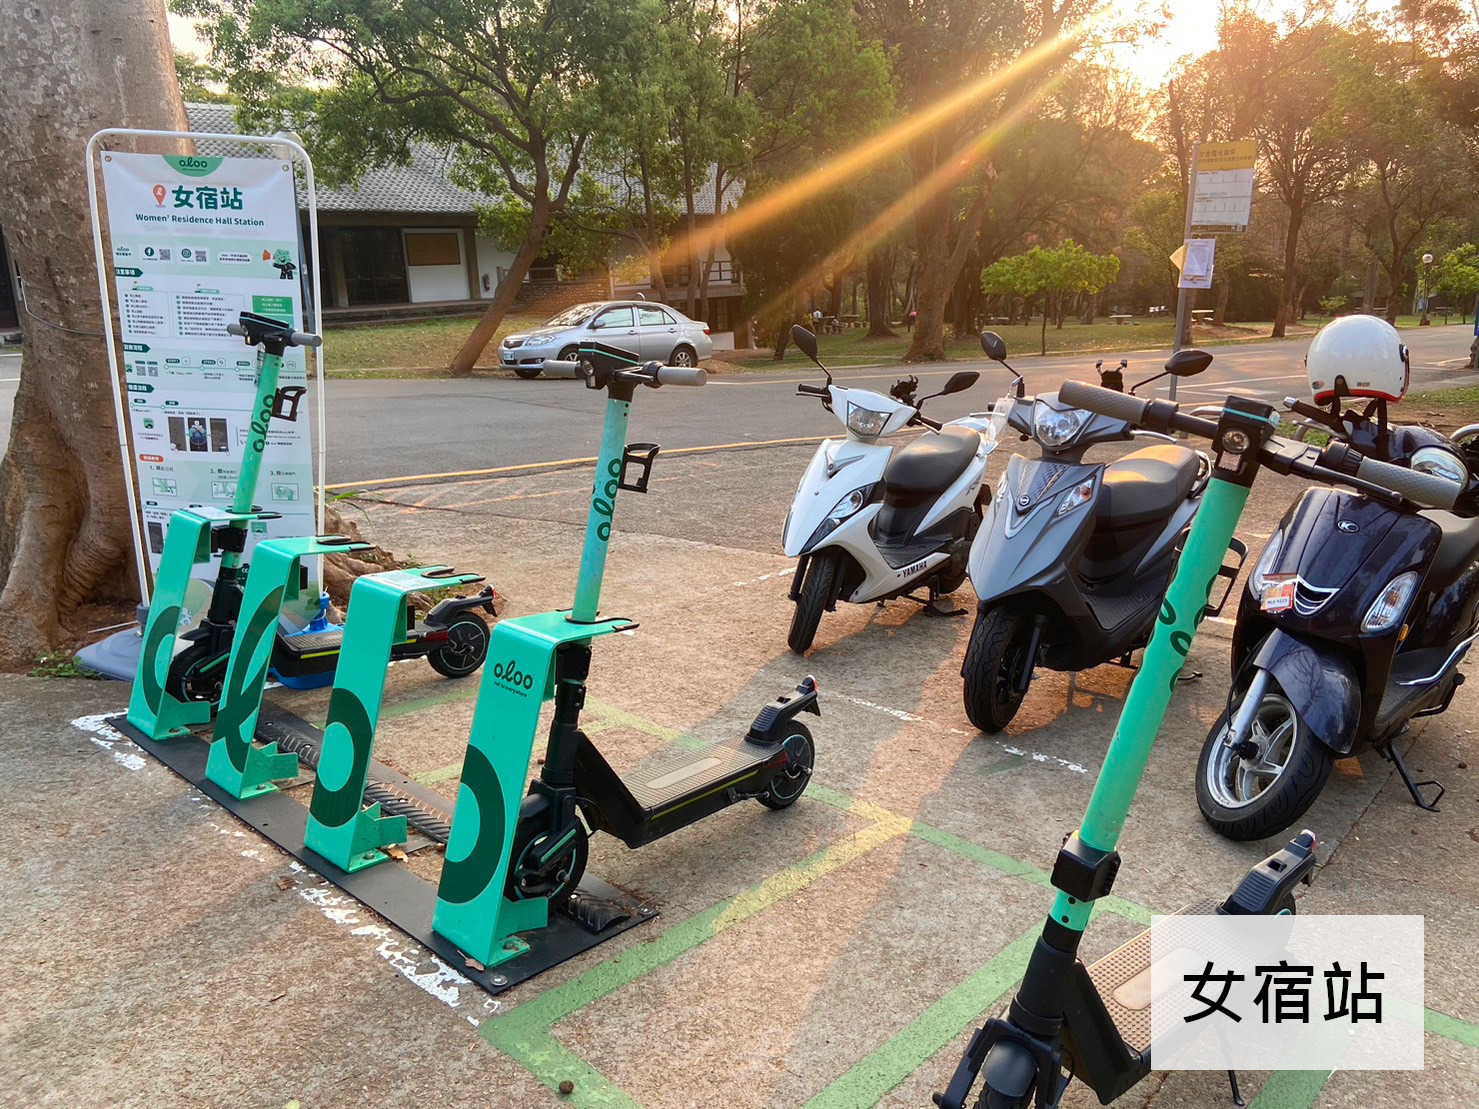scooter: (921, 375, 1332, 1109), (498, 353, 825, 923), (169, 309, 498, 709)
